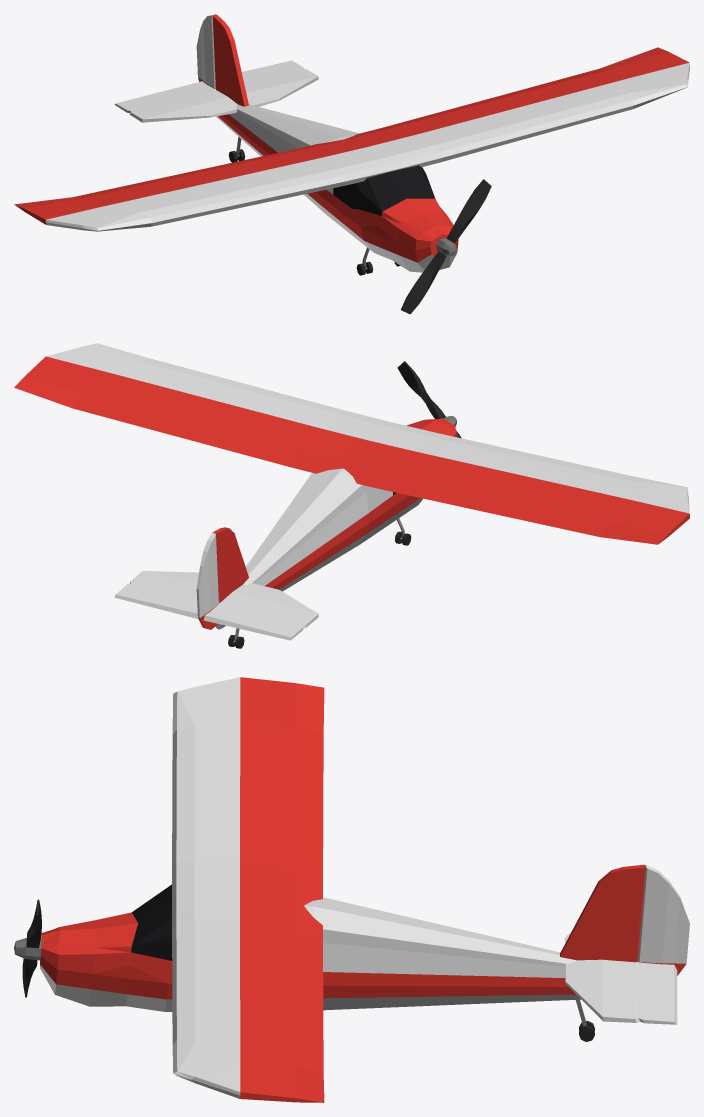
The model's file is Small_Airplane_02.fbx.
The picture shows the model from 3 angles, top to bottom: view 1: azimuth 30°, elevation 25°; view 2: azimuth 150°, elevation 25°; view 3: azimuth 270°, elevation 25°; orthographic projection. The views are drawn at different scales.
Visible parts, largest first — view 1: Small_Airplane_02, Small_Airplane_02_Prop, Small_Airplane_02_Aileron_R, Small_Airplane_02_Aileron_RR, Small_Airplane_02_Aileron_FL, Small_Airplane_02_Aileron_FR, Small_Airplane_02_Aileron_RL; view 2: Small_Airplane_02, Small_Airplane_02_Aileron_FL, Small_Airplane_02_Aileron_FR, Small_Airplane_02_Aileron_RR, Small_Airplane_02_Aileron_RL, Small_Airplane_02_Aileron_R, Small_Airplane_02_Prop; view 3: Small_Airplane_02, Small_Airplane_02_Aileron_FR, Small_Airplane_02_Aileron_R, Small_Airplane_02_Aileron_FL, Small_Airplane_02_Aileron_RL, Small_Airplane_02_Prop.
Part boxes in pixels (bbox=[...]): Small_Airplane_02: bbox=[14, 14, 689, 275]; Small_Airplane_02_Prop: bbox=[401, 179, 491, 314]; Small_Airplane_02_Aileron_R: bbox=[196, 15, 215, 88]; Small_Airplane_02_Aileron_RR: bbox=[114, 81, 214, 112]; Small_Airplane_02_Aileron_FL: bbox=[385, 68, 608, 127]; Small_Airplane_02_Aileron_FR: bbox=[73, 150, 298, 197]; Small_Airplane_02_Aileron_RL: bbox=[241, 60, 303, 82]; Small_Airplane_02: bbox=[14, 343, 689, 648]; Small_Airplane_02_Aileron_FL: bbox=[73, 394, 298, 466]; Small_Airplane_02_Aileron_FR: bbox=[384, 475, 609, 536]; Small_Airplane_02_Aileron_RR: bbox=[203, 603, 303, 640]; Small_Airplane_02_Aileron_RL: bbox=[114, 583, 198, 618]; Small_Airplane_02_Aileron_R: bbox=[196, 533, 218, 618]; Small_Airplane_02_Prop: bbox=[397, 361, 461, 438]; Small_Airplane_02: bbox=[40, 677, 686, 1102]; Small_Airplane_02_Aileron_FR: bbox=[295, 726, 323, 881]; Small_Airplane_02_Aileron_R: bbox=[638, 865, 689, 963]; Small_Airplane_02_Aileron_FL: bbox=[295, 933, 323, 1073]; Small_Airplane_02_Aileron_RL: bbox=[638, 962, 677, 1024]; Small_Airplane_02_Prop: bbox=[14, 899, 41, 997].
Bounding box in the file's own units: 1591 × 308 × 1095.
